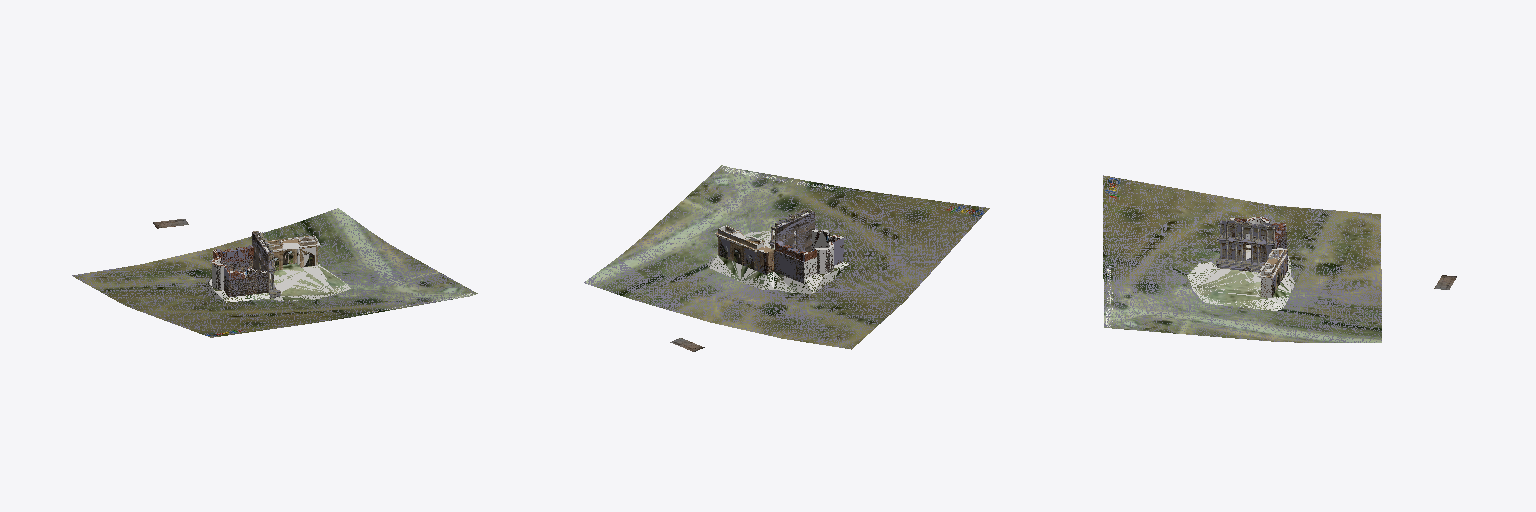
3 views of the same model, side by side, from view 1: azimuth 30°, elevation 25°; view 2: azimuth 150°, elevation 25°; view 3: azimuth 270°, elevation 25° (orthographic).
Visible parts, largest first — view 1: Mesh1 Google_Earth_Terrain Model, Mesh2 ephesus1 Model; view 2: Mesh1 Google_Earth_Terrain Model, Mesh2 ephesus1 Model; view 3: Mesh1 Google_Earth_Terrain Model, Mesh2 ephesus1 Model.
Boxes of the visible parts, box(x1,y1,x2,y2) form: Mesh1 Google_Earth_Terrain Model: box(72, 208, 477, 337); Mesh2 ephesus1 Model: box(204, 231, 350, 302); Mesh1 Google_Earth_Terrain Model: box(584, 165, 989, 349); Mesh2 ephesus1 Model: box(707, 209, 849, 293); Mesh1 Google_Earth_Terrain Model: box(1103, 175, 1381, 342); Mesh2 ephesus1 Model: box(1187, 217, 1294, 310).
Size of the model in its own units: 106 by 23.33 by 121.
Materials: 46 (43 with a texture image).